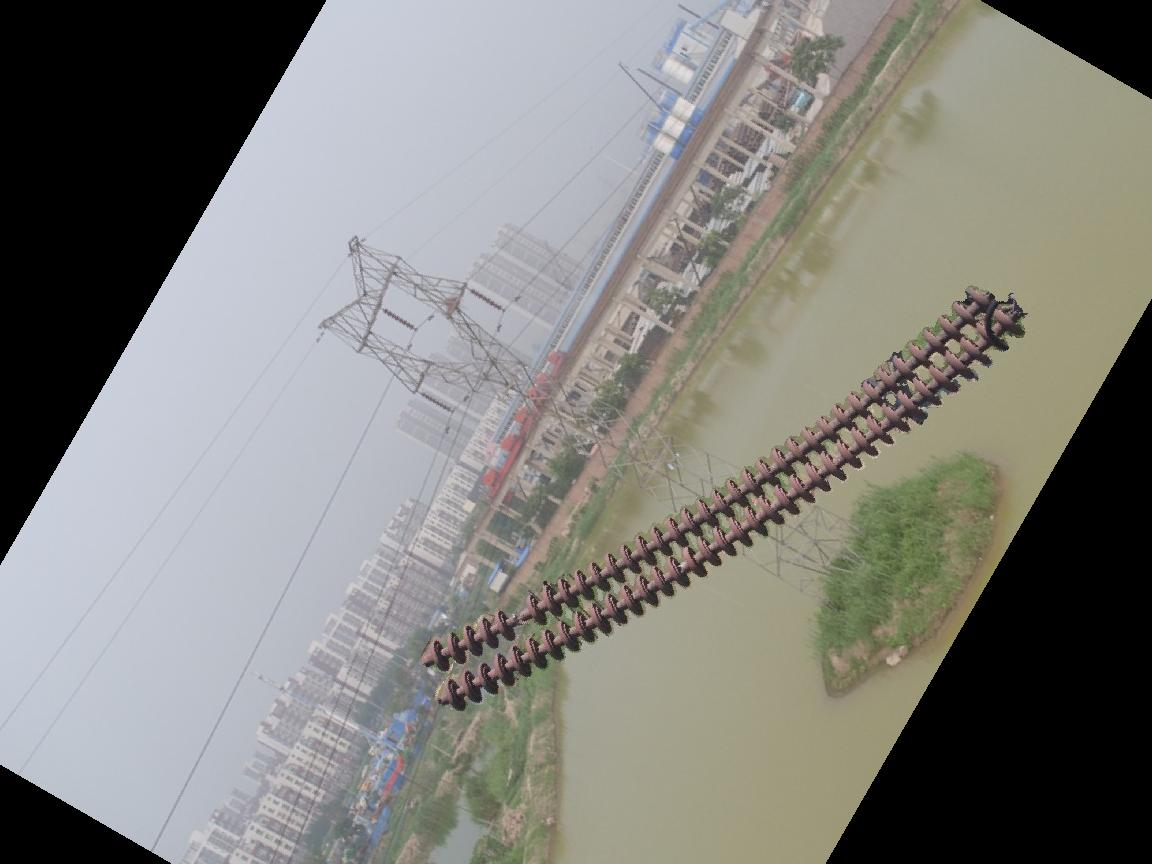insulator: (420, 284, 1032, 714), (377, 305, 419, 333), (416, 388, 453, 414), (468, 287, 503, 312)
insulator_stringdrop: (492, 592, 550, 644)
